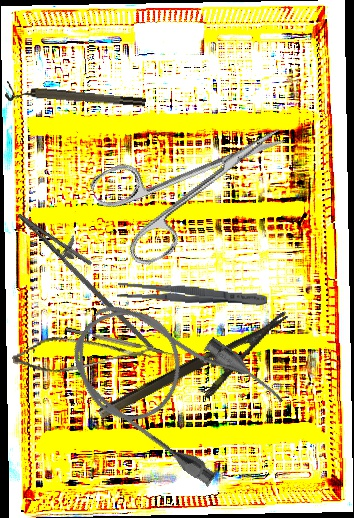Cannula: (51, 274, 290, 494)
Chopper: (65, 321, 179, 359)
Dressing Forceps: (116, 279, 268, 311)
Fixation Ring: (4, 81, 147, 115)
Iris Scissors: (87, 92, 307, 273)
Micro Scissor: (9, 315, 153, 390)
Needle Holder: (96, 311, 304, 445), (2, 200, 178, 352)
